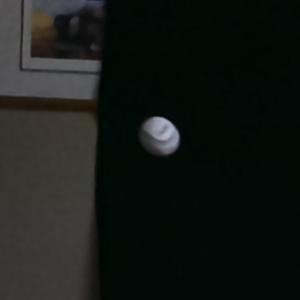ball: (138, 115, 183, 159)
